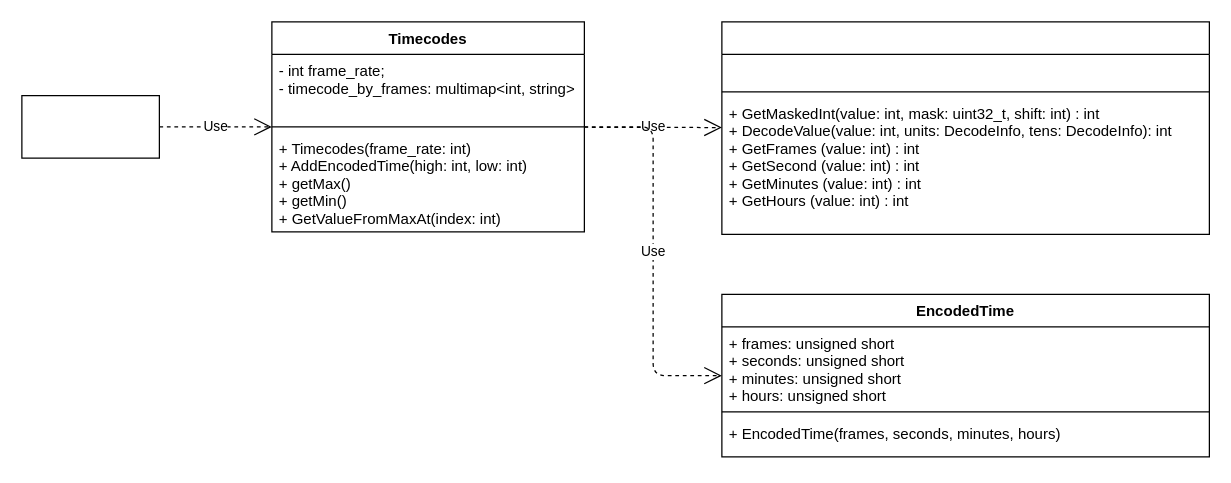
This 1231x483 diagram has some shape labels left out. Here are the shapes that lost their labels. From the top down, the box of each, then its label:
(21, 94, 159, 158): main()
(721, 21, 1209, 234): TimeDecoder
